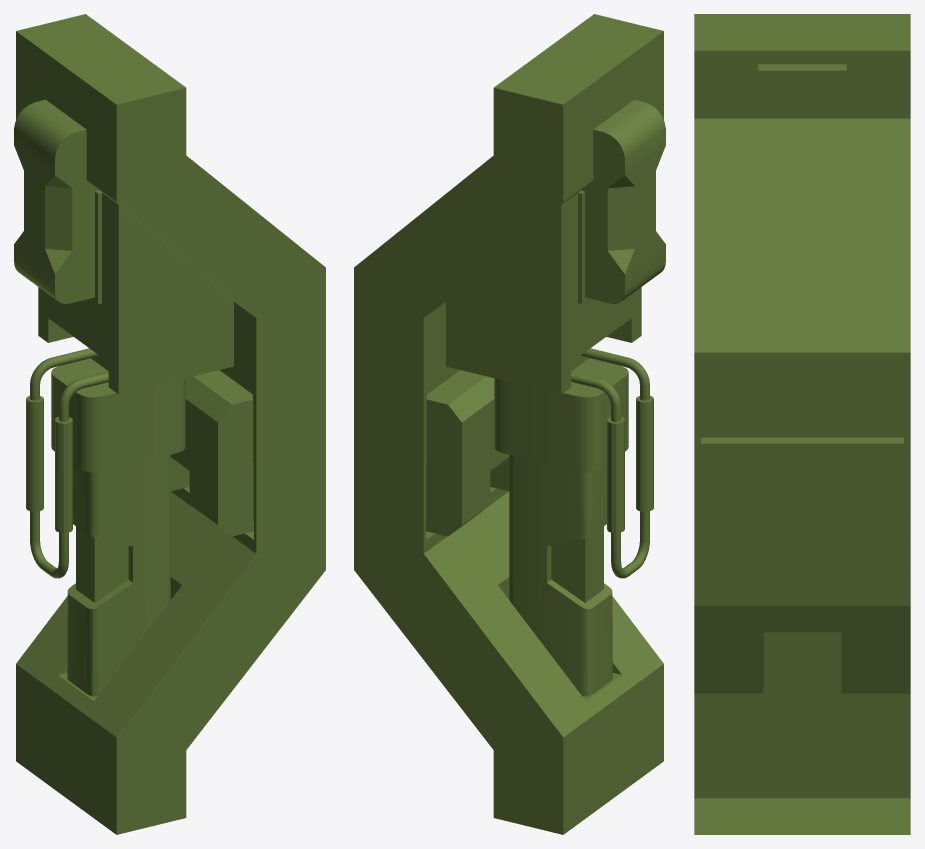
File: Wall_A_4x1m.FBX
The picture shows the model from 3 angles, left to right: view 1: azimuth 30°, elevation 25°; view 2: azimuth 150°, elevation 25°; view 3: azimuth 270°, elevation 25°; orthographic projection. The views are drawn at different scales.
Parts seen in each view (by area): view 1: Wall_A_4x1m; view 2: Wall_A_4x1m; view 3: Wall_A_4x1m.
Part boxes in pixels (<box>): Wall_A_4x1m: <box>14,14,325,834</box>; Wall_A_4x1m: <box>354,14,665,834</box>; Wall_A_4x1m: <box>694,14,910,834</box>.
Size of the model in its own units: 138 by 400 by 100.
